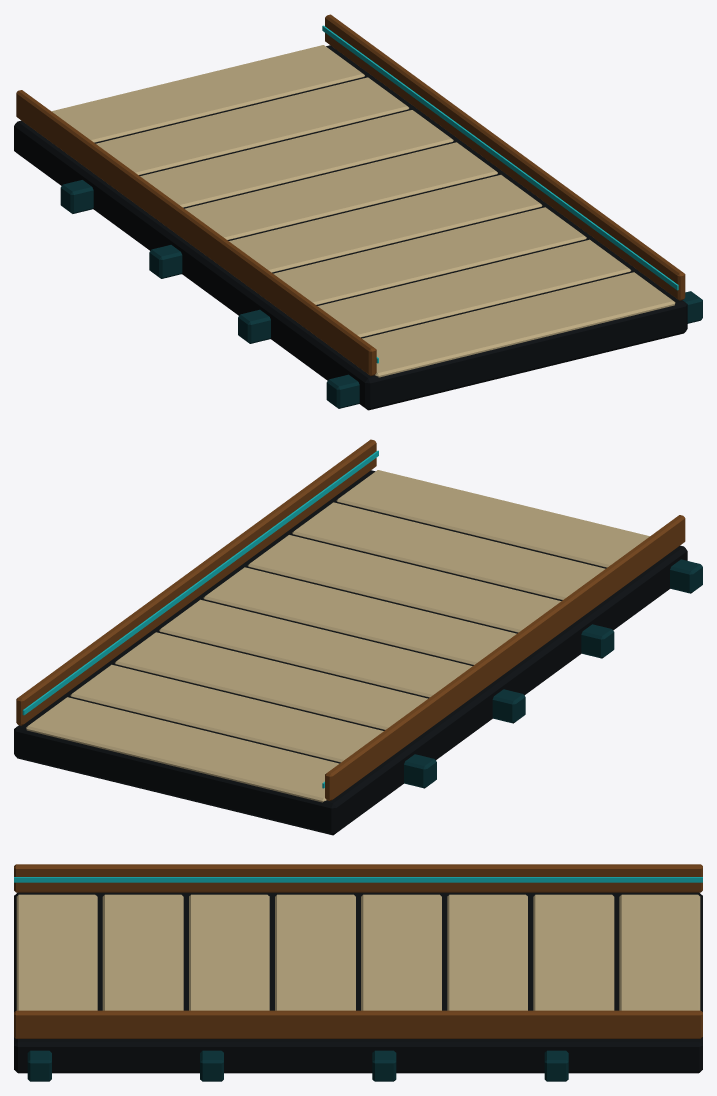
File: track-narrow.glb
3 renders of one model, top to bottom at view 1: azimuth 30°, elevation 25°; view 2: azimuth 150°, elevation 25°; view 3: azimuth 270°, elevation 25°, orthographic. The views are drawn at different scales.
Parts seen in each view (by area): view 1: track-narrow; view 2: track-narrow; view 3: track-narrow.
Part boxes in pixels (x1,y1,x2,y2): track-narrow: [14, 14, 702, 410]; track-narrow: [14, 439, 702, 835]; track-narrow: [14, 864, 702, 1081].
Bounding box in the file's own units: 4.77 × 0.77 × 8.
Materials: 1 (1 with a texture image).
